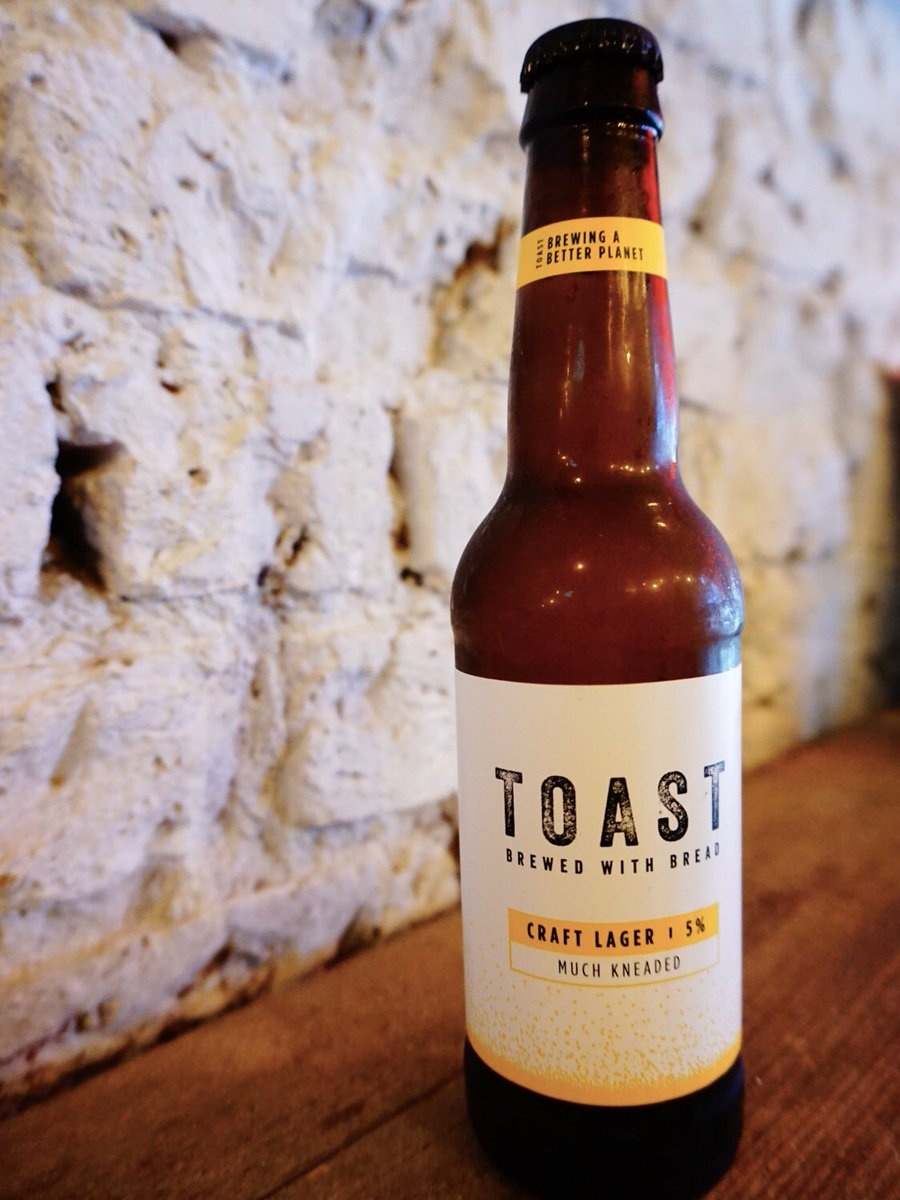beerBottle: (472, 29, 748, 1199)
